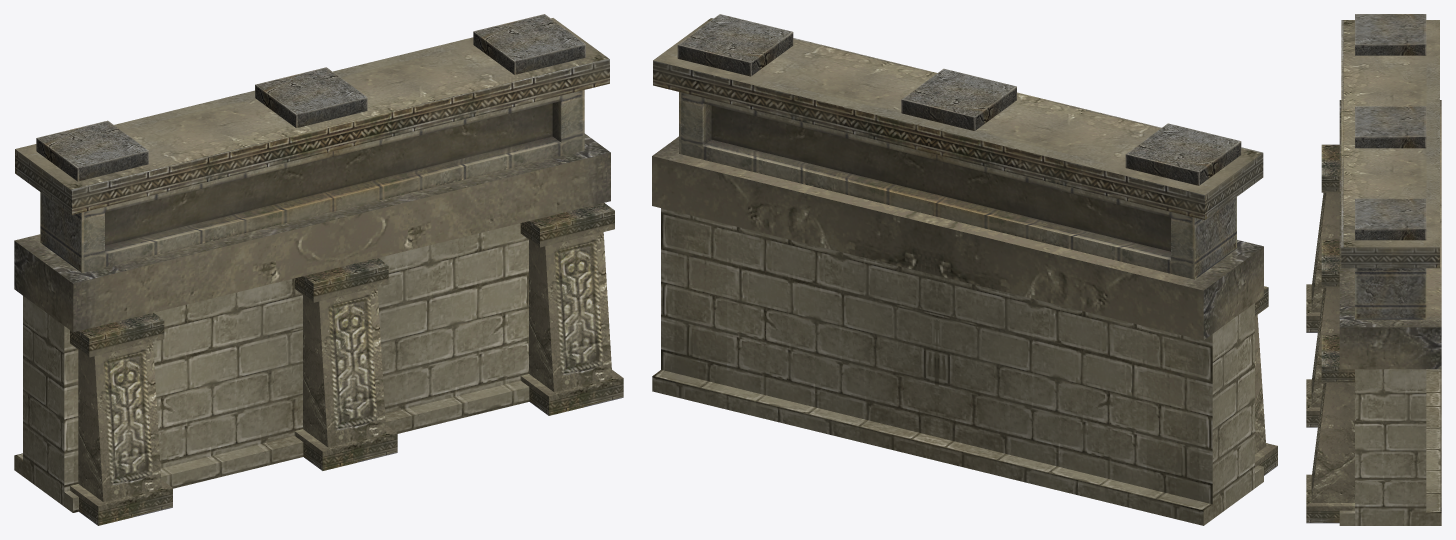
Rendered from BraTrace003.FBX.
The picture shows the model from 3 angles, left to right: view 1: azimuth 30°, elevation 25°; view 2: azimuth 150°, elevation 25°; view 3: azimuth 270°, elevation 25°; orthographic projection. The views are drawn at different scales.
Parts seen in each view (by area): view 1: BraTrace003; view 2: BraTrace003; view 3: BraTrace003.
Part boxes in pixels (box(x1,y1,x2,y2)): BraTrace003: box(14, 14, 623, 525); BraTrace003: box(652, 14, 1277, 525); BraTrace003: box(1306, 14, 1441, 525).
Bounding box in the file's own units: 1591 × 947 × 400.
